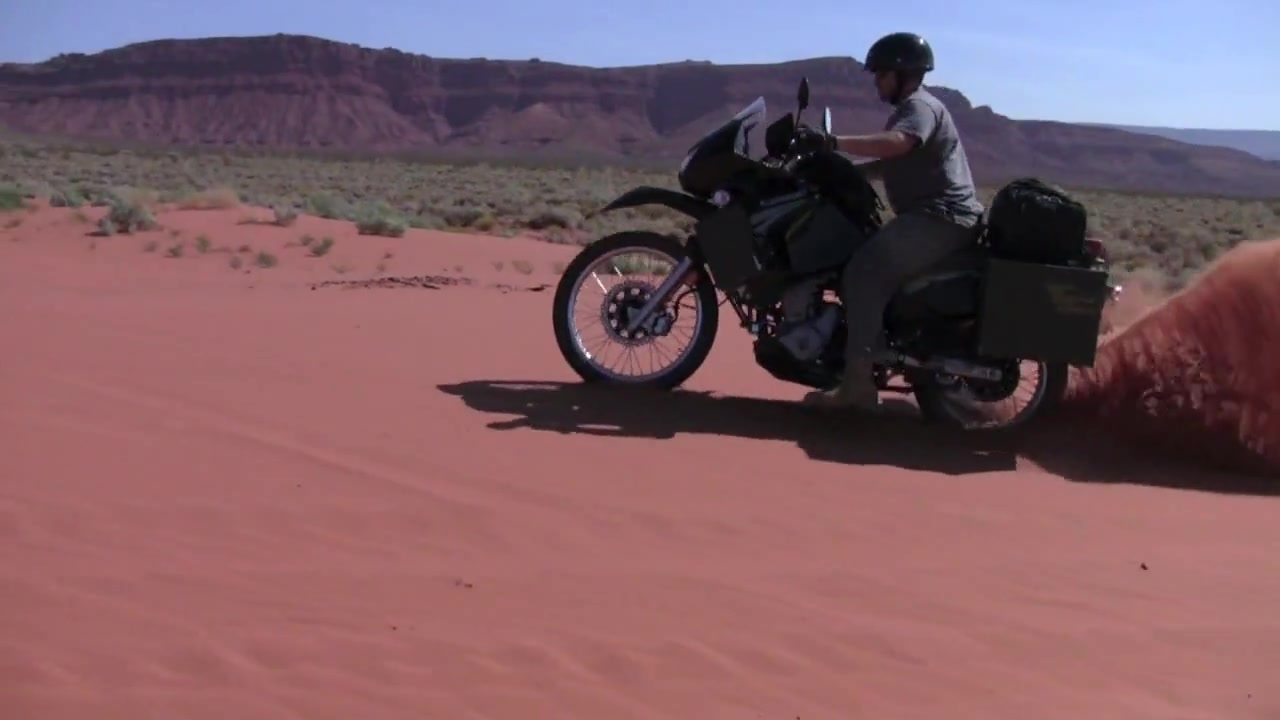motorbike: (549, 74, 1115, 457)
